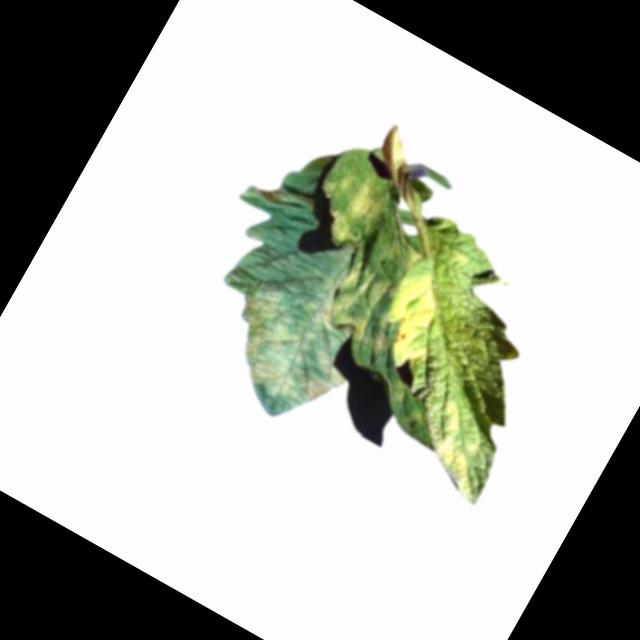Leaf_Mold: (202, 270, 374, 436), (364, 261, 462, 372), (406, 390, 504, 492), (308, 170, 392, 258), (318, 254, 397, 345)
